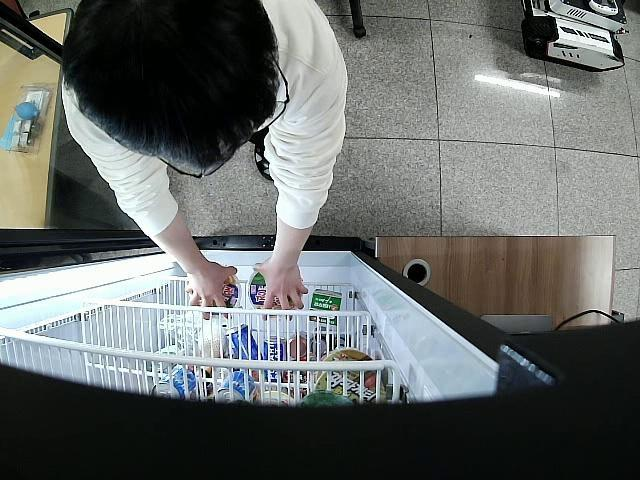09_yukGaeJang: (188, 269, 240, 318), (248, 272, 298, 314)
